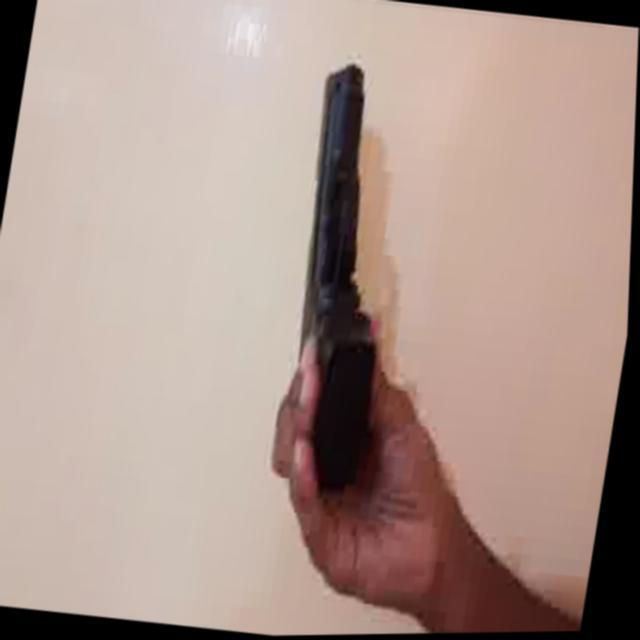weapon: (264, 57, 430, 496)
